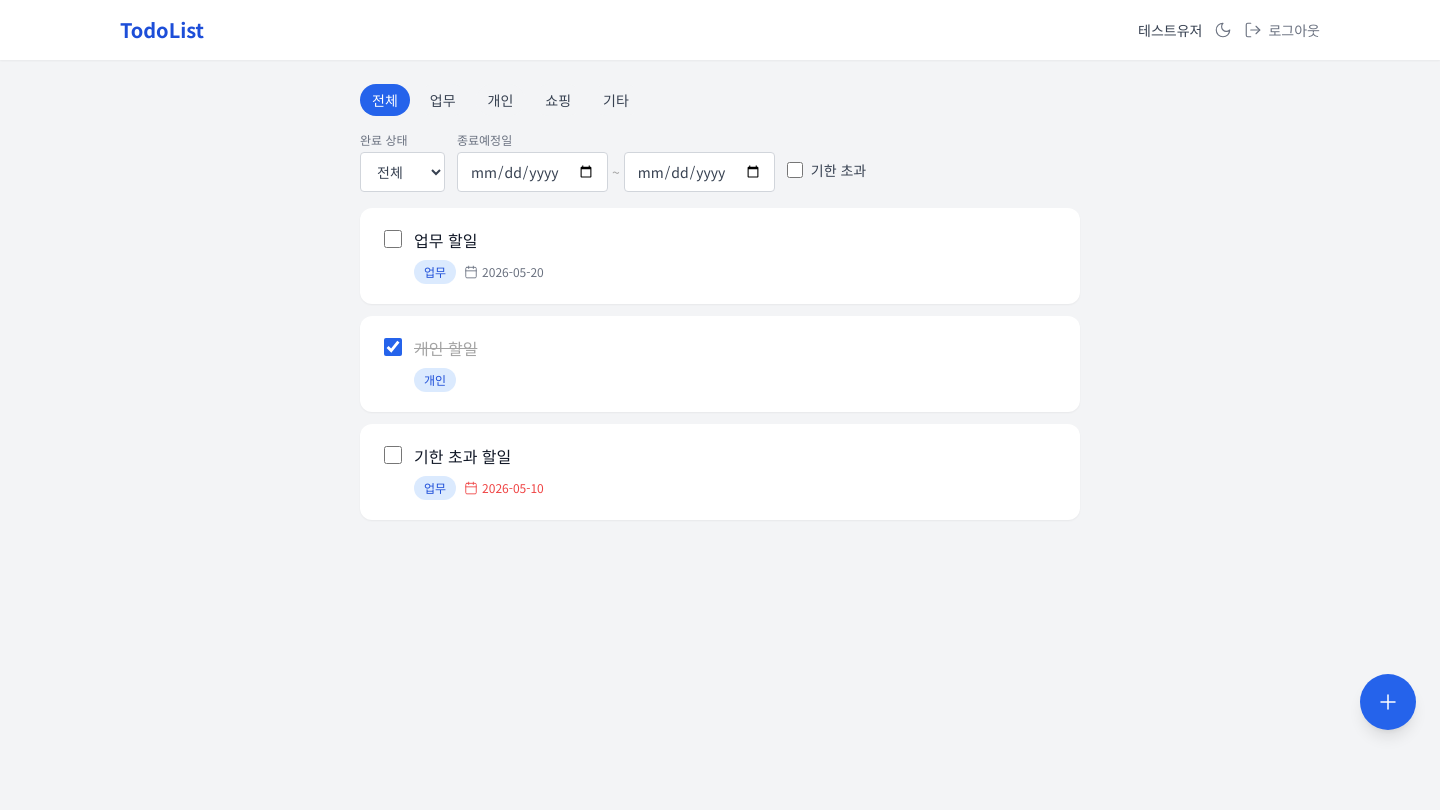
Todos Integration › 완료 여부 필터 - 미완료 항목만 표시
Expected: the text "업무 할일" is shown, [414, 228, 477, 252]
Select "미완료" in the dropdown: (402, 172) [360, 152, 445, 192]
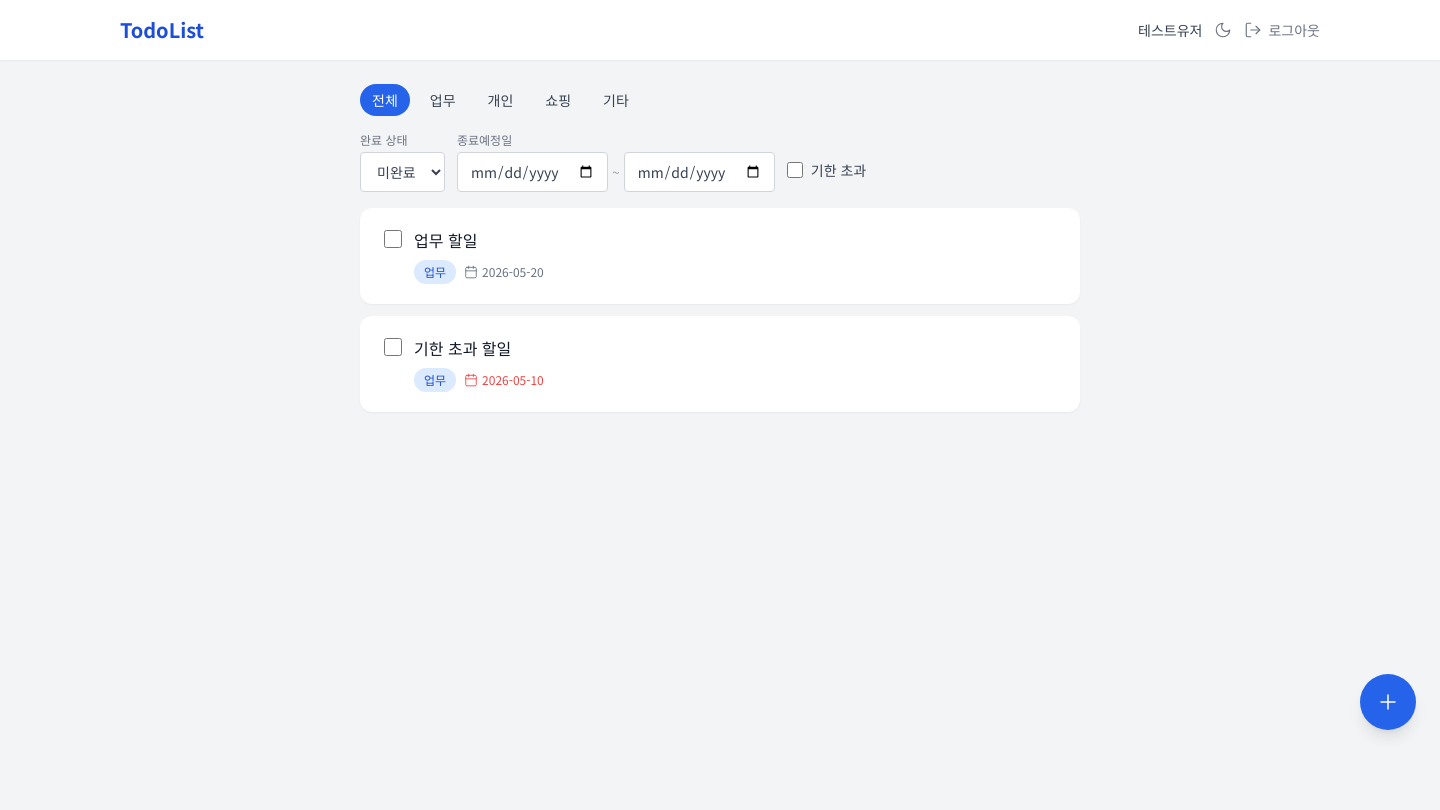
Expected: the text "업무 할일" is shown, [414, 228, 477, 252]
Expected: the text "개인 할일" is gone
